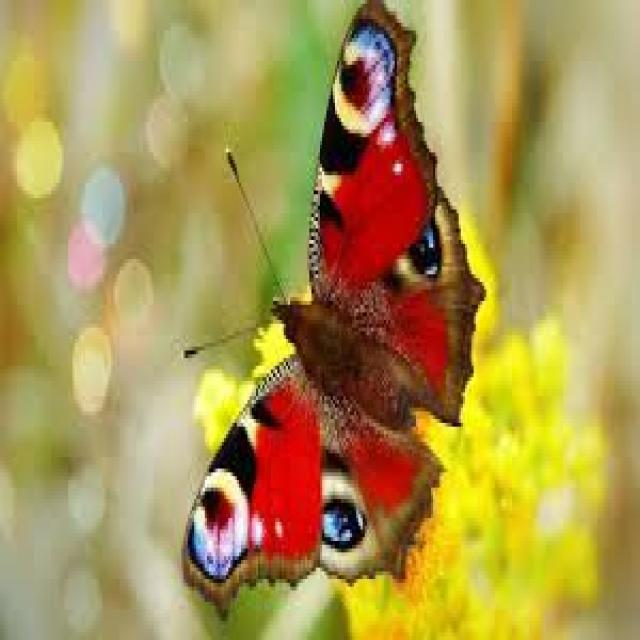butterfly: (200, 132, 493, 590)
